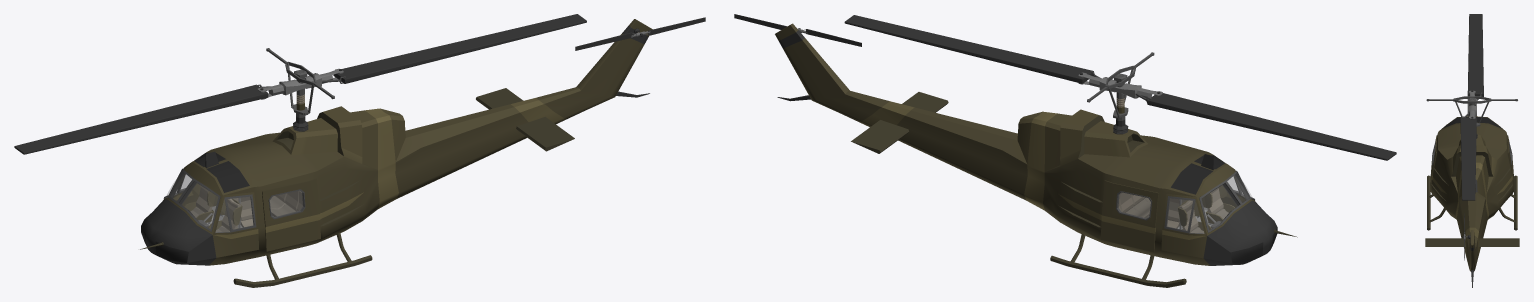
File: Helicopter_military.fbx
3 renders of one model, left to right at view 1: azimuth 30°, elevation 25°; view 2: azimuth 150°, elevation 25°; view 3: azimuth 270°, elevation 25°, orthographic. The views are drawn at different scales.
Visible parts, largest first — view 1: Heli_UH1, Heli_blades_top, Heli_door_L, Heli_door_top_L, Heli_blades_back; view 2: Heli_UH1, Heli_blades_top, Heli_door_R, Heli_door_top_R, Heli_blades_back; view 3: Heli_UH1, Heli_blades_top, Heli_door_L, Heli_door_R.
Boxes of the visible parts, bbox=[...] form: Heli_UH1: bbox=[140, 19, 652, 287]; Heli_blades_top: bbox=[14, 14, 586, 154]; Heli_door_L: bbox=[262, 178, 320, 251]; Heli_door_top_L: bbox=[212, 192, 258, 257]; Heli_blades_back: bbox=[575, 17, 705, 50]; Heli_UH1: bbox=[775, 23, 1297, 287]; Heli_blades_top: bbox=[844, 15, 1396, 160]; Heli_door_R: bbox=[1100, 180, 1158, 252]; Heli_door_top_R: bbox=[1161, 194, 1206, 258]; Heli_blades_back: bbox=[734, 14, 861, 46]; Heli_UH1: bbox=[1425, 116, 1519, 287]; Heli_blades_top: bbox=[1426, 14, 1517, 200]; Heli_door_L: bbox=[1430, 135, 1437, 191]; Heli_door_R: bbox=[1507, 135, 1514, 191].
Bounding box in the file's own units: 571 × 142 × 101.
